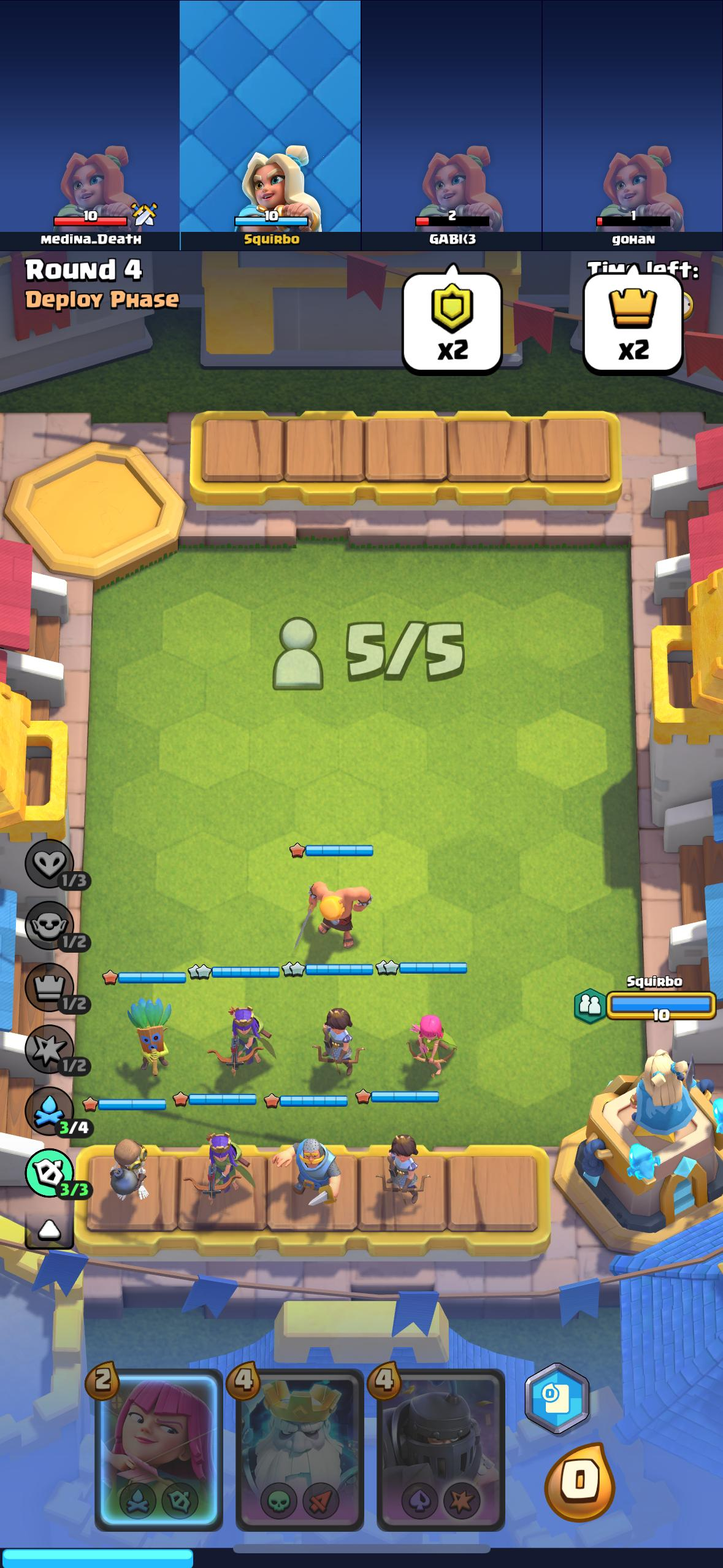archer: (404, 1007, 456, 1082)
barbarian: (300, 877, 375, 941)
bomber: (107, 1132, 156, 1204)
dart: (120, 994, 180, 1079)
hand-archer: (100, 1374, 218, 1526)
hand-ghost: (239, 1372, 361, 1528)
hand-mega: (379, 1370, 503, 1528)
knight: (287, 1131, 344, 1209)
princess: (301, 1000, 372, 1071), (375, 1131, 431, 1205)
queen: (212, 1000, 277, 1071), (197, 1128, 254, 1202)
